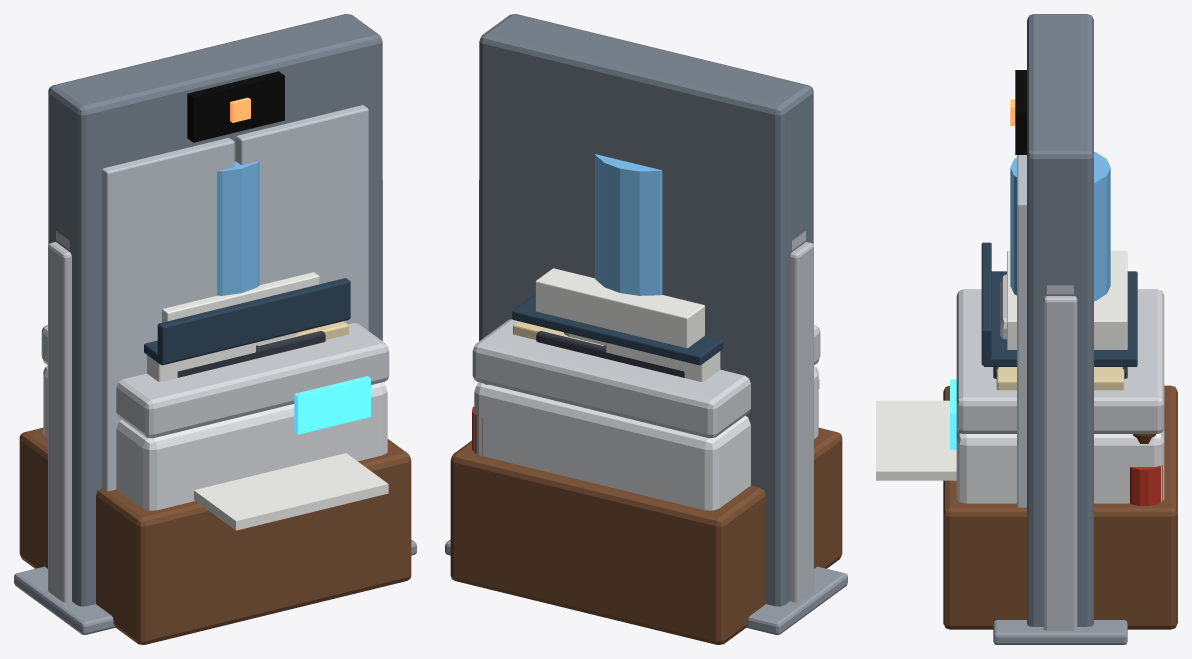
Rendered from props.glb.
The picture shows the model from 3 angles, left to right: view 1: azimuth 30°, elevation 25°; view 2: azimuth 150°, elevation 25°; view 3: azimuth 270°, elevation 25°; orthographic projection. The views are drawn at different scales.
Parts seen in each view (by area): view 1: p_elevator.body, p_inbox.body, p_copier.body, p_partition.body, p_water.body, p_cart.body; view 2: p_elevator.body, p_inbox.body, p_copier.body, p_partition.body, p_water.body, p_cart.body; view 3: p_elevator.body, p_inbox.body, p_copier.body, p_partition.body, p_water.body, p_cart.body.
Boxes of the visible parts, <box> form: p_elevator.body: <box>48,14,382,606</box>; p_inbox.body: <box>19,272,411,644</box>; p_copier.body: <box>41,323,389,530</box>; p_partition.body: <box>14,180,416,634</box>; p_water.body: <box>217,161,297,345</box>; p_cart.body: <box>147,321,348,382</box>; p_elevator.body: <box>479,14,813,606</box>; p_inbox.body: <box>450,268,842,644</box>; p_copier.body: <box>472,319,820,510</box>; p_partition.body: <box>445,180,847,634</box>; p_water.body: <box>564,154,662,345</box>; p_cart.body: <box>513,321,720,382</box>; p_elevator.body: <box>1010,14,1093,626</box>; p_inbox.body: <box>943,242,1177,629</box>; p_copier.body: <box>876,289,1164,503</box>; p_partition.body: <box>993,285,1127,644</box>; p_water.body: <box>1000,151,1110,339</box>; p_cart.body: <box>996,367,1124,390</box>.
Size of the model in its own units: 1.1 by 1.73 by 0.9.
